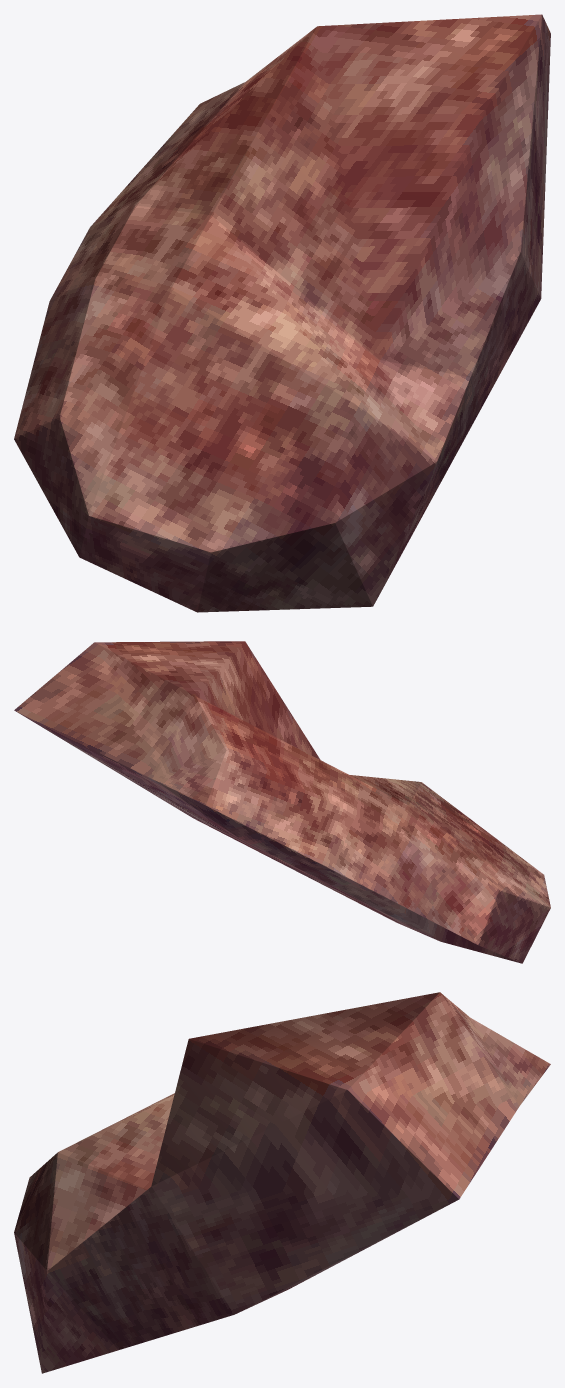
File: item_quest_hlal_flesh.glb
The picture shows the model from 3 angles, top to bottom: view 1: azimuth 30°, elevation 25°; view 2: azimuth 150°, elevation 25°; view 3: azimuth 270°, elevation 25°; orthographic projection. The views are drawn at different scales.
Parts seen in each view (by area): view 1: Flesh; view 2: Flesh; view 3: Flesh.
Boxes of the visible parts, left/top/right/bottom form: Flesh: left=14, top=14, right=550, bottom=612; Flesh: left=14, top=641, right=550, bottom=963; Flesh: left=14, top=992, right=550, bottom=1373.
Bounding box in the file's own units: 0.329 × 0.2159 × 0.2338.
1 material, 1 textured.
